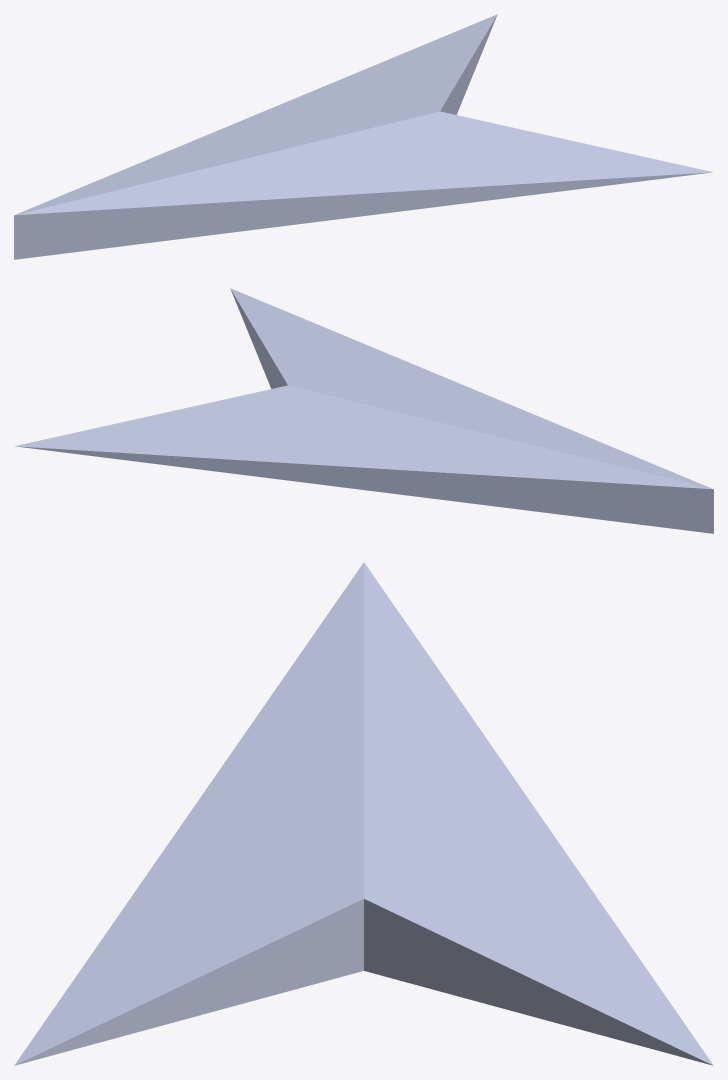
File: arrow.FBX
3 renders of one model, top to bottom at view 1: azimuth 30°, elevation 25°; view 2: azimuth 150°, elevation 25°; view 3: azimuth 270°, elevation 25°, orthographic. The views are drawn at different scales.
Parts seen in each view (by area): view 1: Mirror3; view 2: Mirror3; view 3: Mirror3.
Part boxes in pixels (box(x1,y1,x2,y2)): Mirror3: box(14, 14, 712, 259); Mirror3: box(15, 288, 713, 533); Mirror3: box(14, 562, 713, 1065).
Bounding box in the file's own units: 6.95 × 0.5 × 4.39.
